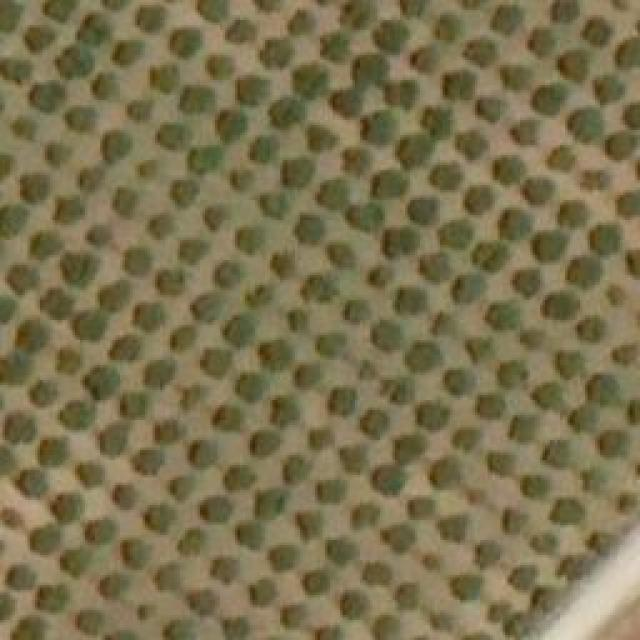Tree: (303, 270, 338, 303), (375, 20, 410, 53), (55, 48, 93, 78), (78, 15, 111, 48), (65, 253, 98, 286), (355, 55, 388, 88), (223, 313, 253, 348), (3, 413, 36, 443), (30, 523, 60, 556), (40, 290, 75, 318), (35, 582, 70, 610), (58, 400, 93, 428), (343, 0, 378, 28), (133, 2, 166, 30), (360, 408, 388, 441), (270, 248, 298, 281), (568, 257, 601, 285), (440, 220, 473, 248), (18, 320, 48, 350), (18, 468, 48, 498), (60, 545, 90, 575), (260, 340, 290, 370), (535, 230, 565, 260), (570, 110, 600, 140), (400, 135, 430, 165), (365, 110, 395, 140), (543, 293, 578, 318), (0, 355, 32, 382), (10, 617, 47, 640), (297, 68, 325, 98), (320, 180, 348, 210), (122, 540, 150, 570), (53, 495, 83, 523), (340, 443, 368, 473), (192, 293, 220, 323), (200, 347, 230, 375), (325, 240, 355, 268), (408, 342, 438, 370), (432, 458, 460, 488), (375, 465, 405, 493), (590, 375, 618, 405), (388, 230, 418, 258), (500, 210, 530, 238), (535, 83, 563, 113), (425, 108, 453, 138), (465, 37, 495, 65), (495, 5, 525, 33), (168, 30, 201, 55), (75, 313, 108, 338), (133, 303, 166, 328), (380, 525, 413, 550), (315, 333, 348, 358), (475, 243, 508, 268), (380, 378, 415, 401), (0, 57, 32, 82), (150, 65, 178, 93), (105, 132, 133, 160), (87, 367, 115, 395), (30, 377, 58, 405), (282, 455, 310, 483), (487, 302, 515, 330), (375, 320, 403, 348), (320, 32, 348, 60), (385, 85, 418, 108), (25, 25, 55, 50), (273, 100, 303, 125), (283, 160, 313, 185), (33, 235, 63, 260), (298, 215, 323, 245), (40, 438, 65, 468), (225, 465, 255, 490), (238, 373, 263, 403), (593, 225, 618, 255), (458, 130, 488, 155), (445, 73, 475, 98), (197, 0, 230, 22), (43, 0, 78, 20), (223, 20, 258, 40), (32, 83, 60, 108), (240, 78, 268, 103), (103, 282, 128, 310), (237, 228, 265, 253), (342, 148, 370, 173), (78, 607, 103, 635), (192, 588, 220, 613), (350, 503, 378, 528), (257, 490, 285, 515), (190, 440, 215, 468), (273, 397, 298, 425), (100, 425, 125, 453), (447, 368, 475, 393), (397, 435, 425, 460), (515, 267, 540, 295), (455, 275, 483, 300), (423, 252, 448, 280), (595, 78, 623, 103), (560, 52, 585, 80), (438, 12, 463, 40), (160, 125, 190, 148), (8, 268, 38, 291), (110, 335, 140, 358), (438, 518, 468, 541), (200, 498, 230, 521), (85, 520, 115, 543), (145, 363, 175, 386), (395, 288, 425, 311), (350, 208, 380, 231), (375, 173, 405, 196), (0, 0, 22, 30), (180, 90, 213, 110), (553, 498, 586, 518), (220, 112, 243, 140), (310, 128, 338, 151), (332, 93, 360, 116), (452, 575, 480, 598), (475, 542, 498, 570), (145, 508, 173, 531), (155, 420, 183, 443), (135, 450, 163, 473), (317, 480, 345, 503), (307, 428, 335, 451), (170, 325, 198, 348), (245, 283, 273, 306), (510, 418, 538, 441), (520, 475, 548, 498), (495, 158, 523, 181), (412, 48, 440, 71), (533, 27, 556, 55), (560, 557, 595, 575), (115, 38, 140, 63), (265, 40, 290, 65), (23, 175, 48, 200), (0, 208, 25, 233), (8, 563, 33, 588), (98, 573, 123, 598), (508, 565, 533, 590), (215, 405, 240, 430), (168, 475, 193, 500), (330, 388, 355, 413), (573, 405, 598, 430), (535, 383, 560, 408), (555, 353, 580, 378), (603, 433, 628, 458), (468, 188, 493, 213), (560, 200, 585, 225), (550, 145, 575, 170), (430, 168, 460, 188), (58, 198, 83, 221), (125, 250, 150, 273), (215, 263, 240, 286), (340, 593, 365, 616), (508, 613, 531, 638), (328, 540, 353, 563), (298, 513, 321, 538), (273, 545, 296, 570), (503, 508, 526, 533), (235, 525, 260, 548), (255, 430, 280, 453), (115, 483, 138, 508), (500, 363, 525, 386), (480, 395, 505, 418), (420, 405, 445, 428), (543, 443, 568, 466), (610, 133, 635, 156), (525, 178, 550, 201), (480, 98, 505, 121), (67, 108, 95, 128), (157, 273, 185, 293), (63, 347, 83, 375), (180, 530, 208, 550), (487, 453, 515, 473), (502, 68, 530, 88), (423, 552, 448, 574), (400, 0, 430, 18), (253, 138, 276, 161), (158, 565, 181, 588), (253, 580, 276, 603), (374, 617, 397, 640), (413, 200, 436, 223), (580, 315, 603, 338), (135, 600, 158, 623), (192, 150, 220, 168), (50, 140, 70, 165), (365, 563, 390, 583), (470, 338, 490, 363), (520, 330, 545, 350), (553, 0, 578, 20), (620, 40, 640, 65), (3, 153, 19, 182), (95, 75, 118, 95), (210, 58, 233, 78), (263, 195, 286, 215), (213, 560, 236, 580), (280, 605, 303, 625), (305, 573, 328, 593), (223, 618, 246, 638), (395, 585, 415, 608), (410, 498, 433, 518), (80, 463, 100, 486), (123, 395, 146, 415), (295, 365, 315, 388), (343, 300, 366, 320), (455, 428, 478, 448), (533, 533, 556, 553), (588, 20, 608, 43), (115, 190, 133, 215), (0, 448, 18, 473), (310, 625, 340, 640), (0, 592, 15, 620), (255, 0, 287, 13), (130, 102, 153, 120), (153, 217, 176, 235), (183, 242, 206, 260), (488, 602, 511, 620), (287, 308, 305, 331), (585, 532, 608, 550), (582, 468, 600, 491), (175, 183, 195, 203), (168, 620, 188, 640), (180, 388, 200, 408), (533, 588, 553, 608), (515, 123, 535, 143), (293, 13, 313, 33), (617, 195, 640, 212), (625, 103, 640, 129), (0, 507, 22, 524), (15, 120, 33, 140), (80, 170, 100, 188), (205, 208, 223, 228), (233, 172, 253, 190), (370, 267, 390, 285), (433, 315, 453, 333), (615, 345, 635, 363), (585, 170, 605, 188), (627, 250, 640, 277), (627, 397, 640, 424), (0, 300, 15, 323), (620, 492, 638, 510), (90, 228, 110, 243), (468, 488, 488, 503), (432, 615, 450, 630), (360, 360, 375, 378), (143, 163, 158, 178)
